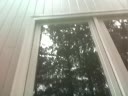window: (42, 25, 89, 96), (115, 20, 128, 47)
